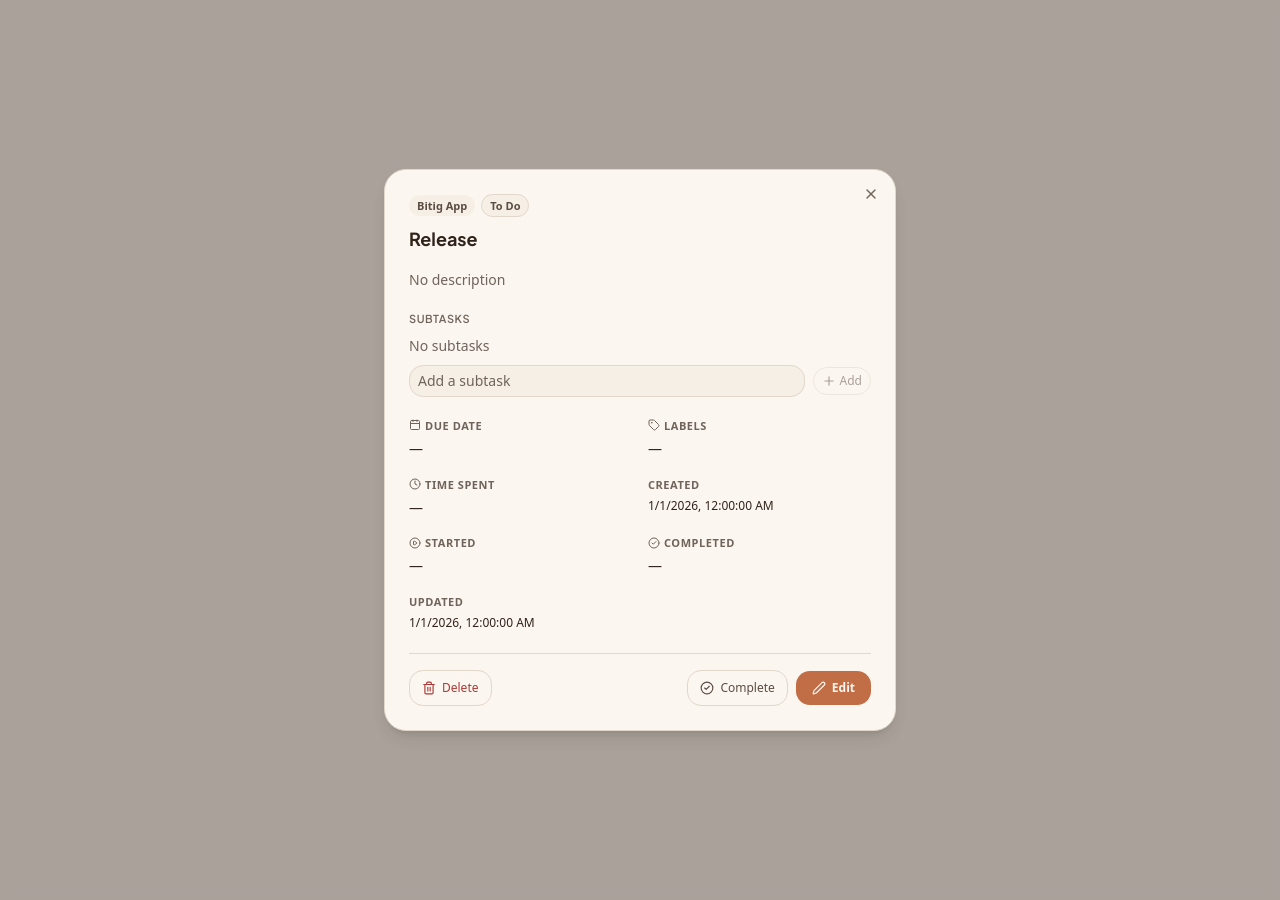
task checklist › shows subtasks section and allows adding subtasks in the detail view even when starting empty
This screenshot has width=1280, height=900.
Expected: the text "No subtasks" is shown, [409,336,490,355]
Type "Publish package" into the field named "New subtask" at point(607, 381), box [409,365,805,397]
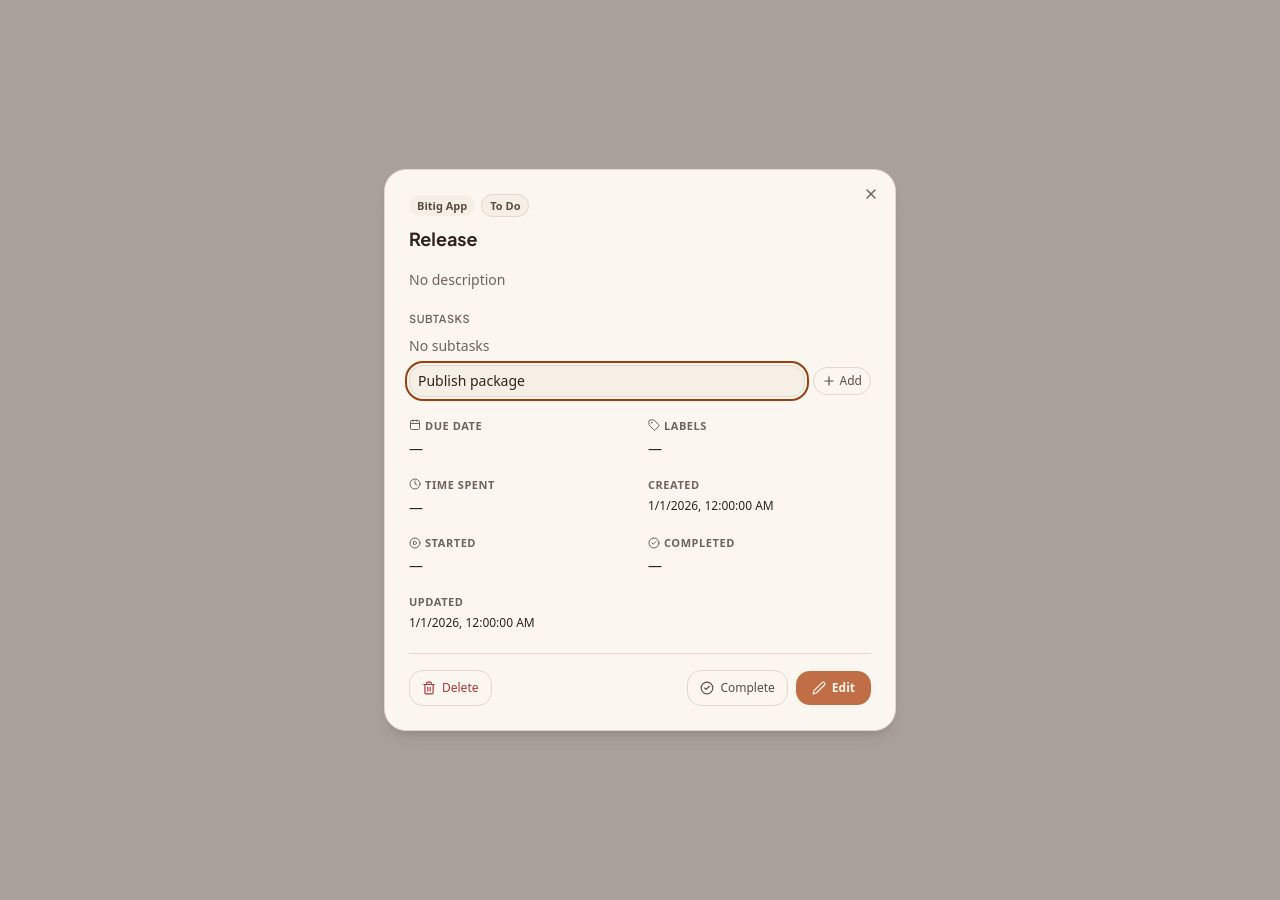
Click the button "Add" at point(842, 381), box [813,367,871,395]
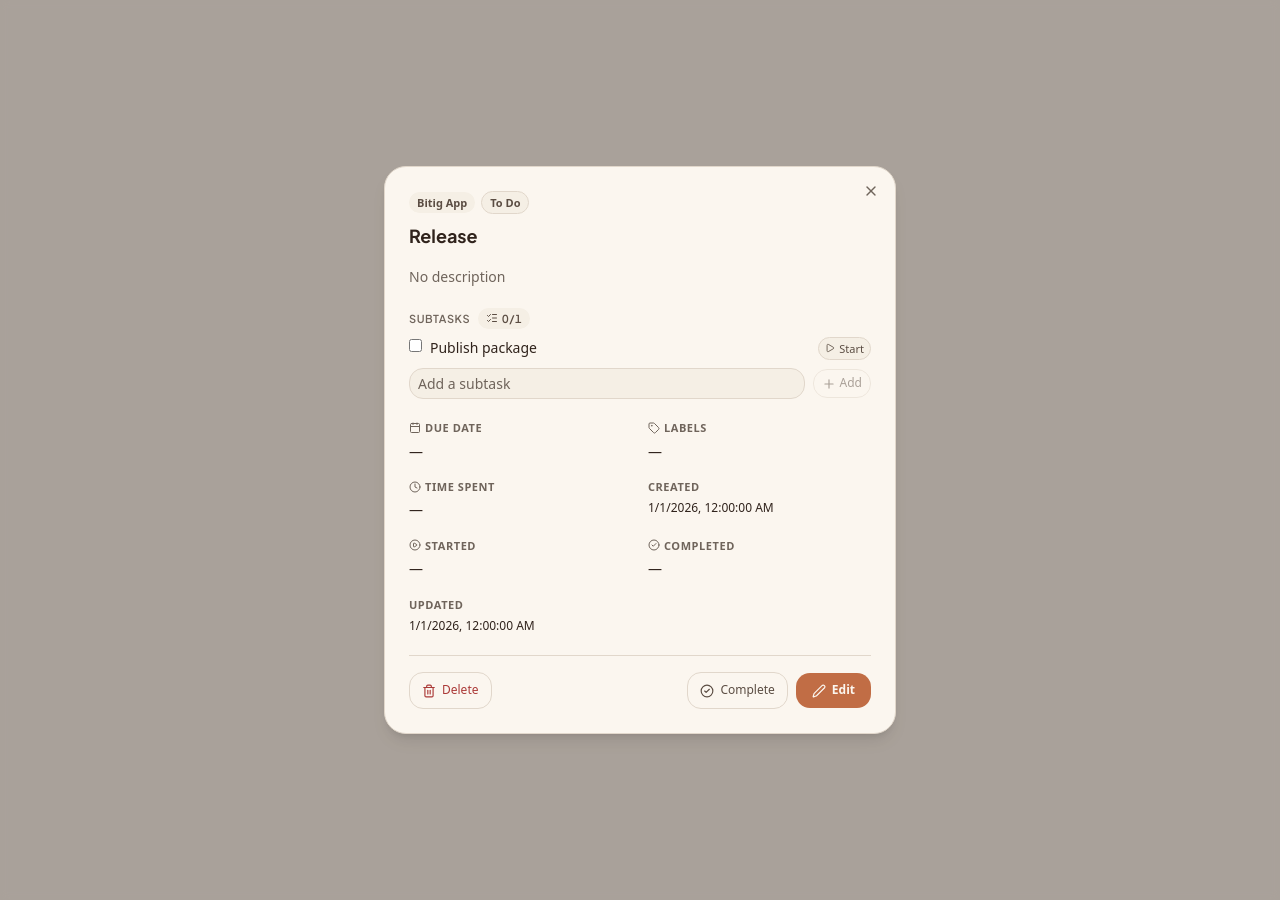
Expected: the checkbox labelled "Publish package" is not checked, [409,339,422,352]
Expected: the field named "New subtask" is empty, [409,368,805,400]
